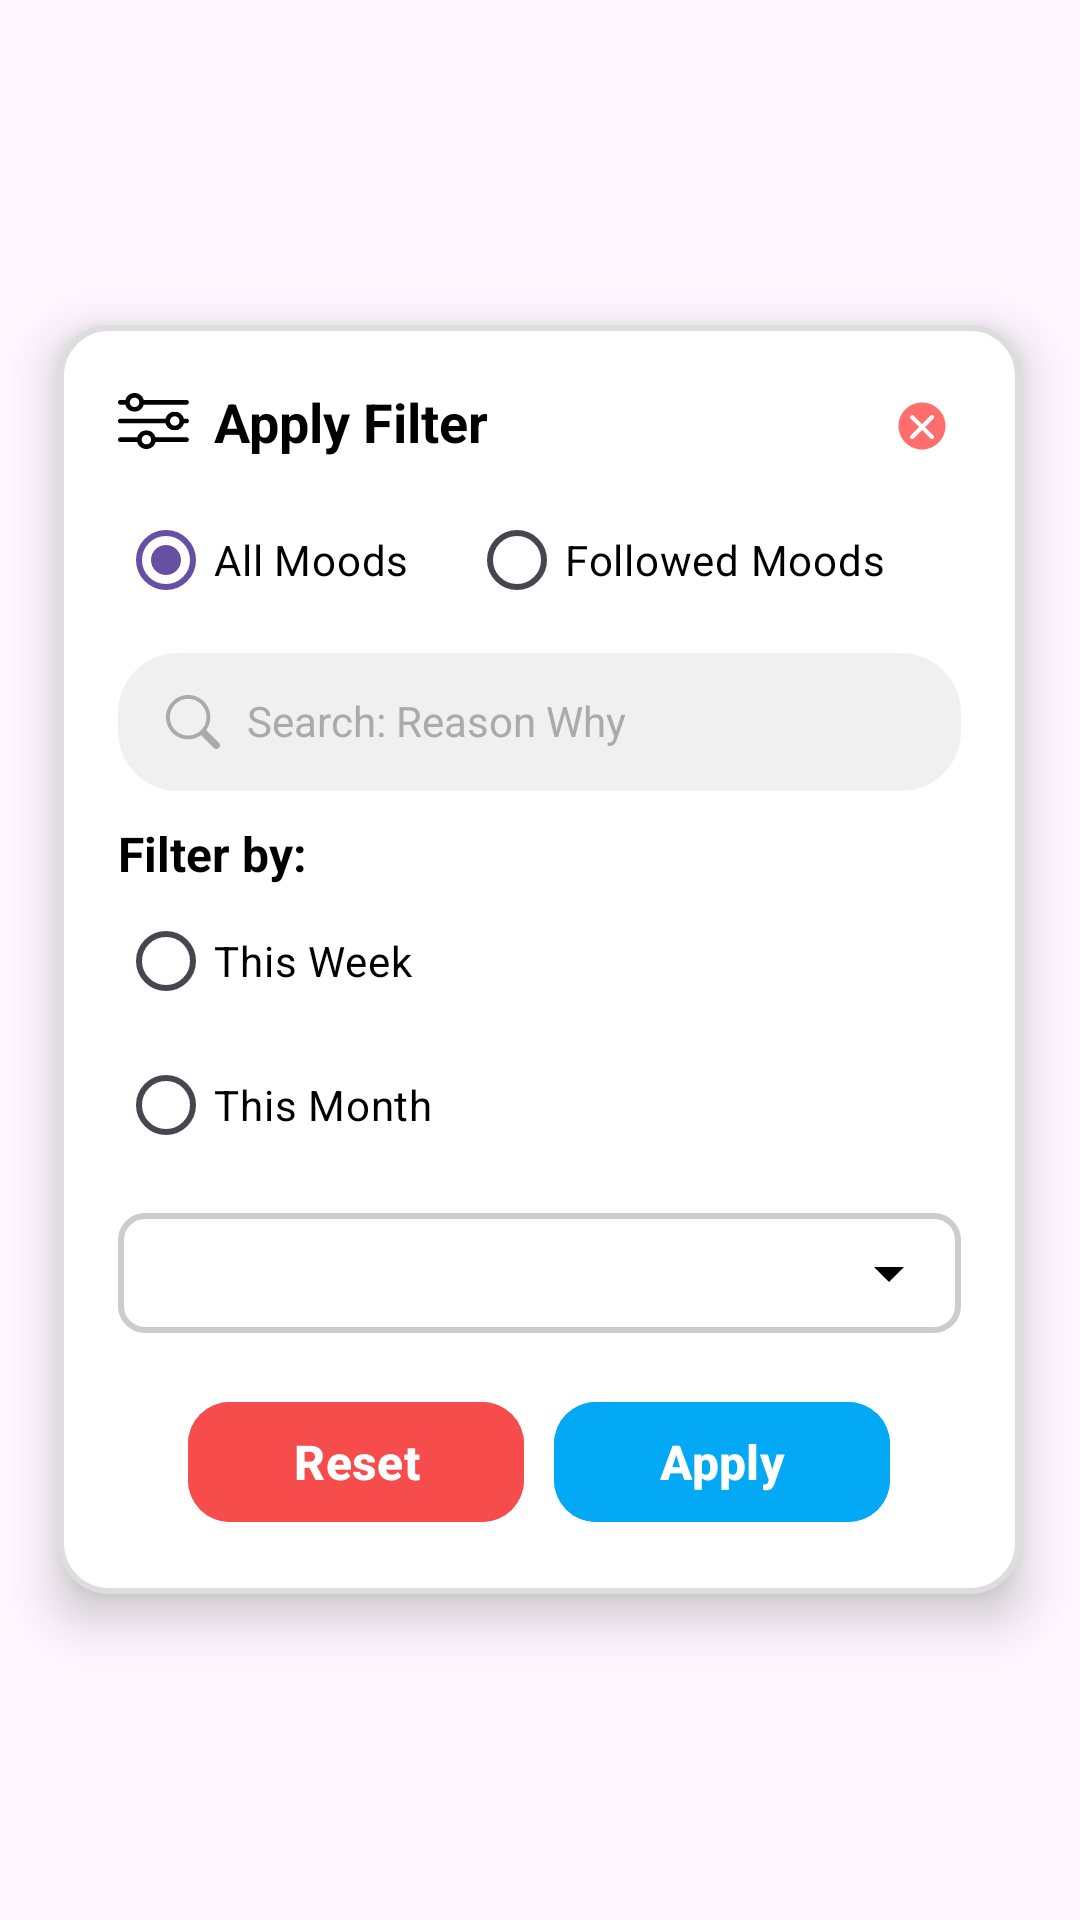

Icons on this 1080*1920 Android screen, each with the point to tap as (x,y):
close: (922,426)
dropdown: (889,1274)
